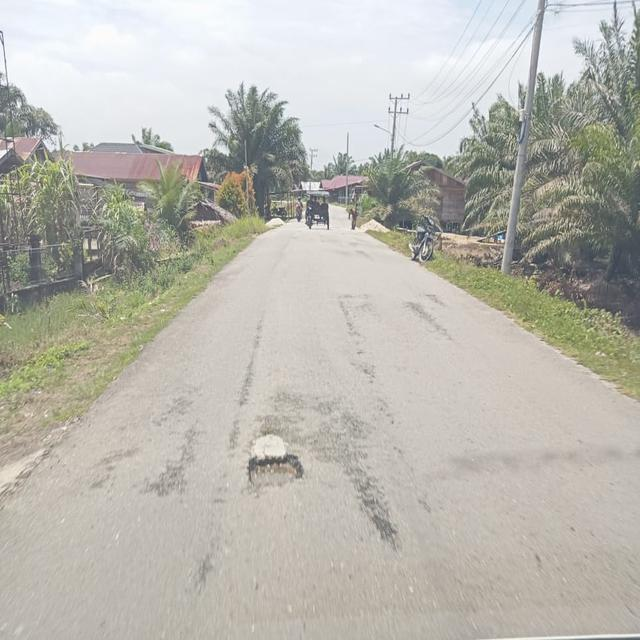Lubang: (246, 448, 301, 481)
